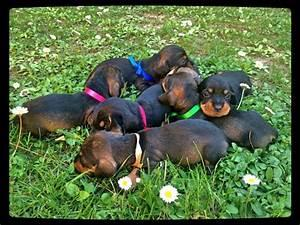dog: (18, 43, 197, 137), (73, 118, 229, 189)
